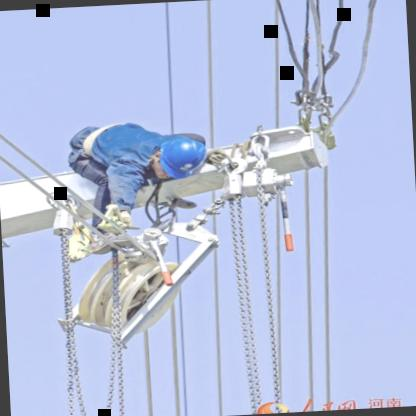helmet: (151, 129, 212, 182)
